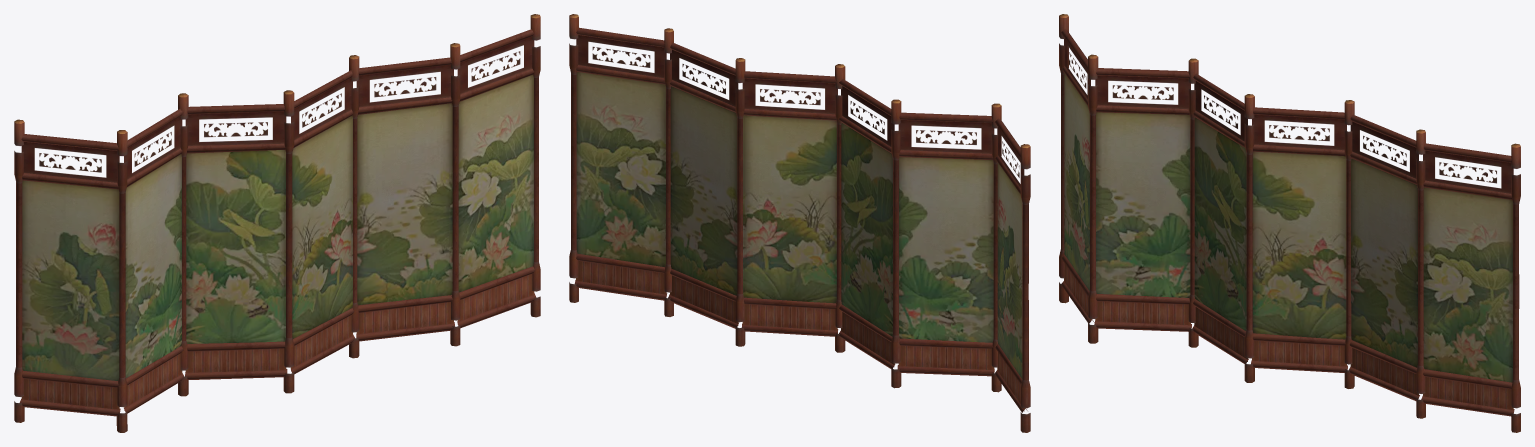
The model's file is Screen.glb.
The picture shows the model from 3 angles, left to right: view 1: azimuth 30°, elevation 25°; view 2: azimuth 150°, elevation 25°; view 3: azimuth 330°, elevation 25°; orthographic projection. The views are drawn at different scales.
Visible parts, largest first — view 1: Obj3d66-1651272-3-223; view 2: Obj3d66-1651272-3-223; view 3: Obj3d66-1651272-3-223.
Part boxes in pixels (x1,y1,x2,y2): Obj3d66-1651272-3-223: (14,14,540,432); Obj3d66-1651272-3-223: (569,14,1030,432); Obj3d66-1651272-3-223: (1059,14,1520,432).
Size of the model in its own units: 1.52 by 0.8624 by 0.2227.
1 material, 1 textured.
